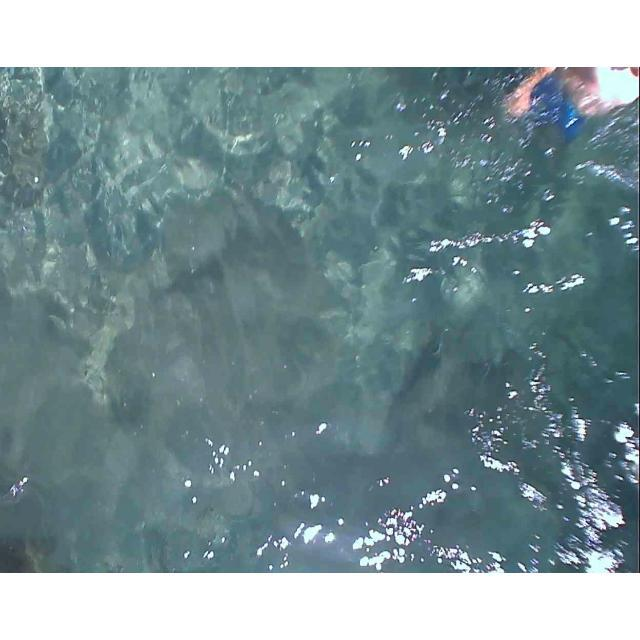human: (518, 67, 632, 161)
